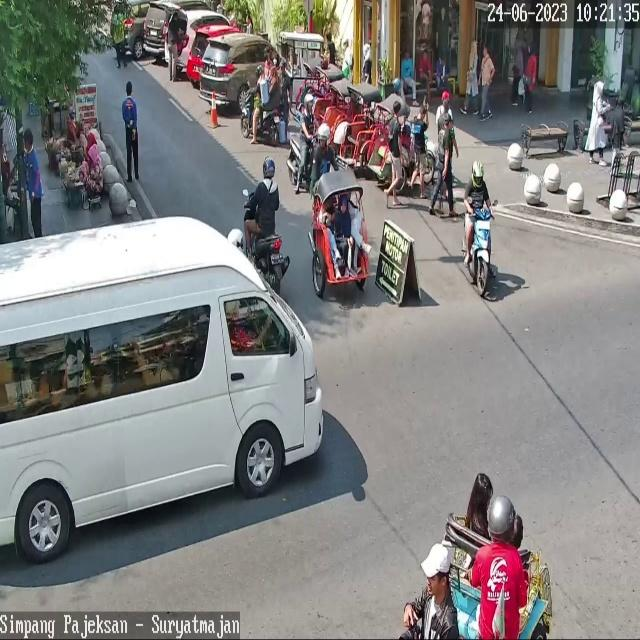bus: (244, 190, 291, 290), (240, 87, 280, 147), (470, 208, 491, 295), (288, 134, 310, 190)
car: (0, 216, 323, 552)
motorcycle: (201, 34, 281, 104), (164, 9, 233, 67), (144, 0, 212, 54), (186, 24, 242, 82), (110, 0, 149, 61)
